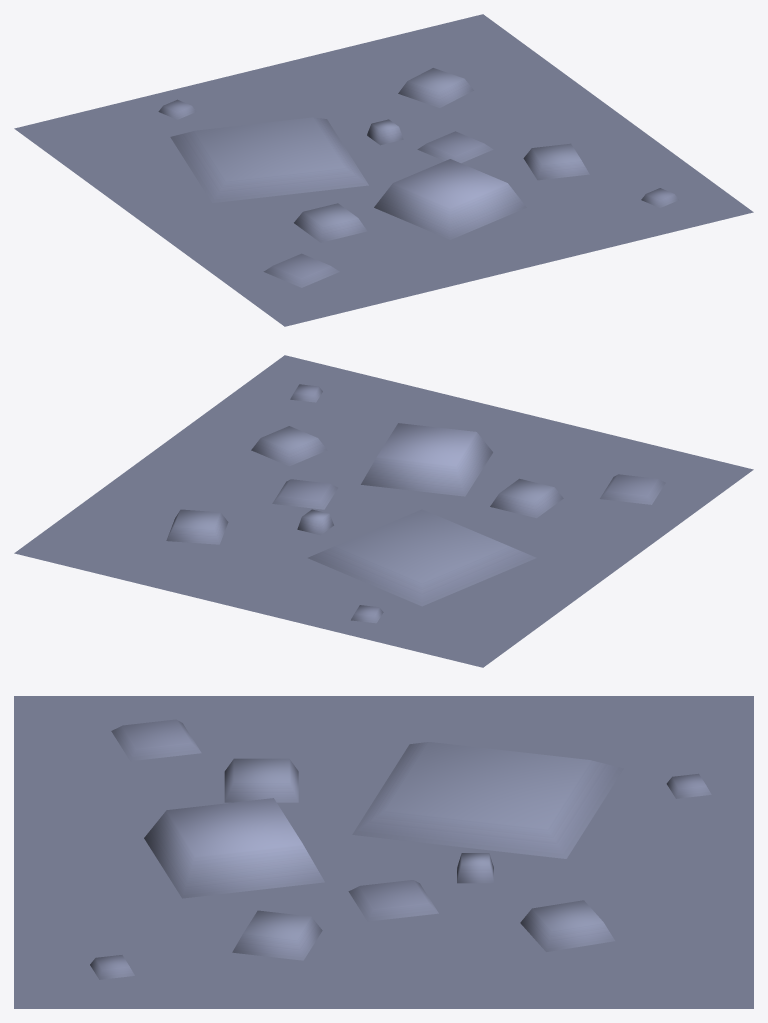
Rendered from floor-detail.glb.
3 renders of one model, top to bottom at view 1: azimuth 30°, elevation 25°; view 2: azimuth 150°, elevation 25°; view 3: azimuth 270°, elevation 25°, orthographic. The views are drawn at different scales.
Parts seen in each view (by area): view 1: floor-detail; view 2: floor-detail; view 3: floor-detail.
Part boxes in pixels (x1,y1,x2,y2): floor-detail: [14, 14, 753, 326]; floor-detail: [14, 355, 753, 667]; floor-detail: [14, 696, 753, 1008].
Bounding box in the file's own units: 1 × 0.05 × 1.
1 material, 1 textured.
